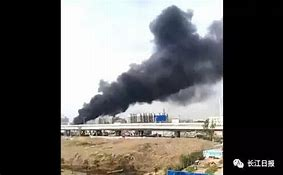smoke: (73, 4, 221, 122)
